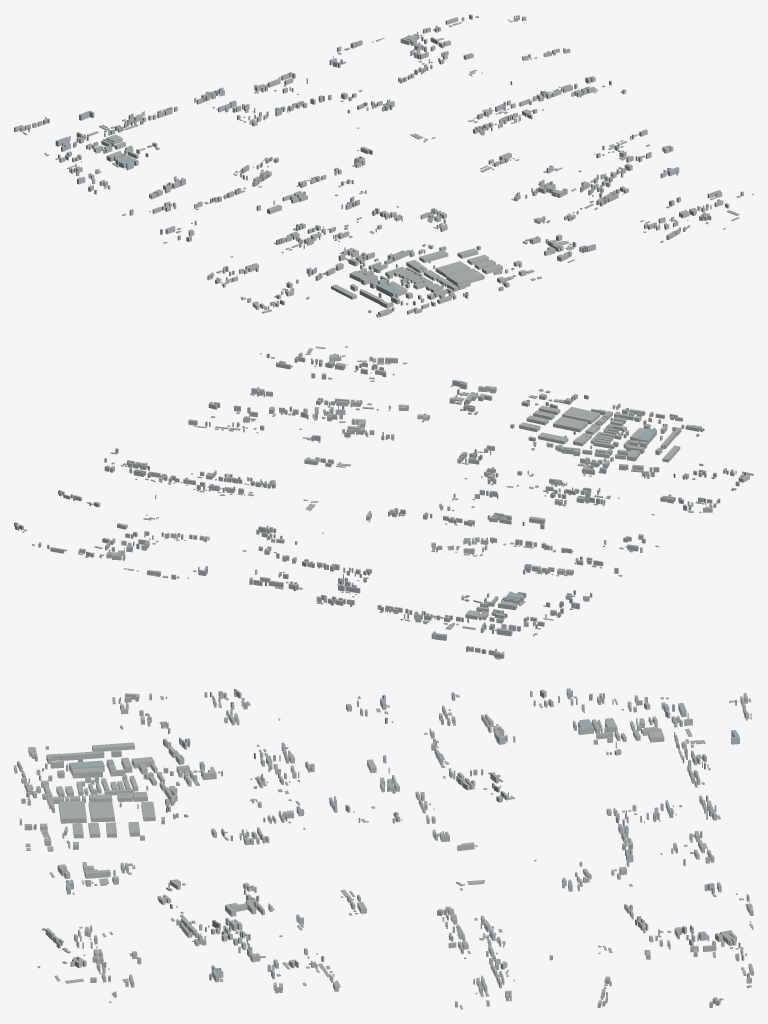
Rendered from far.glb.
3 renders of one model, top to bottom at view 1: azimuth 30°, elevation 25°; view 2: azimuth 150°, elevation 25°; view 3: azimuth 270°, elevation 25°, orthographic. The views are drawn at different scales.
Size of the model in its own units: 2121 by 20.5 by 2102.
